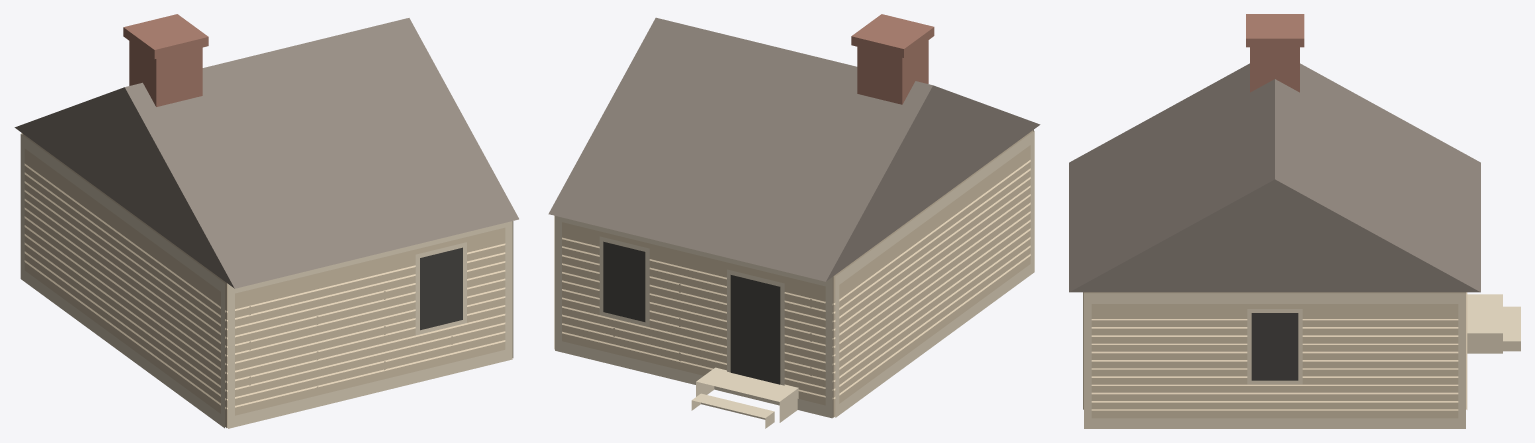
File: recon_1835_blk_randolph_wells_d3_05__inferred_1835.glb
3 renders of one model, left to right at view 1: azimuth 30°, elevation 25°; view 2: azimuth 150°, elevation 25°; view 3: azimuth 270°, elevation 25°, orthographic. The views are drawn at different scales.
Parts seen in each view (by area): view 1: recon_1835_blk_randolph_wells_d3_05__inferred_1835; view 2: recon_1835_blk_randolph_wells_d3_05__inferred_1835; view 3: recon_1835_blk_randolph_wells_d3_05__inferred_1835.
Boxes of the visible parts, box(x1,y1,x2,y2) form: recon_1835_blk_randolph_wells_d3_05__inferred_1835: box(14, 14, 518, 428); recon_1835_blk_randolph_wells_d3_05__inferred_1835: box(548, 14, 1040, 428); recon_1835_blk_randolph_wells_d3_05__inferred_1835: box(1069, 14, 1520, 428).
Size of the model in its own units: 5.24 by 5.39 by 7.59.
